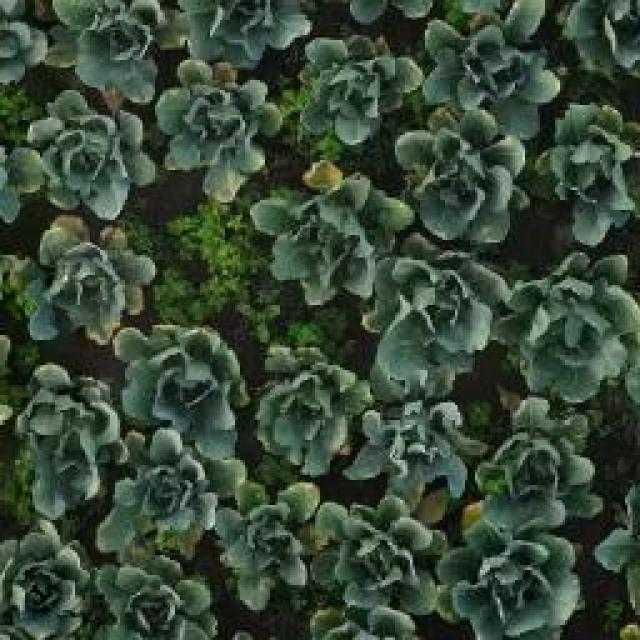cabbage: (367, 249, 508, 387), (511, 253, 640, 403), (397, 105, 527, 244), (263, 164, 394, 297), (152, 64, 285, 192), (471, 401, 599, 530), (309, 494, 442, 618), (446, 515, 576, 640), (26, 94, 160, 214), (15, 362, 120, 508), (113, 319, 244, 436), (348, 387, 475, 505), (106, 432, 234, 546), (210, 480, 326, 604), (27, 223, 152, 336), (542, 99, 640, 242), (426, 20, 555, 127), (255, 347, 357, 479), (303, 34, 416, 140), (53, 0, 174, 98), (90, 552, 218, 640), (0, 525, 100, 637), (182, 0, 314, 61)
